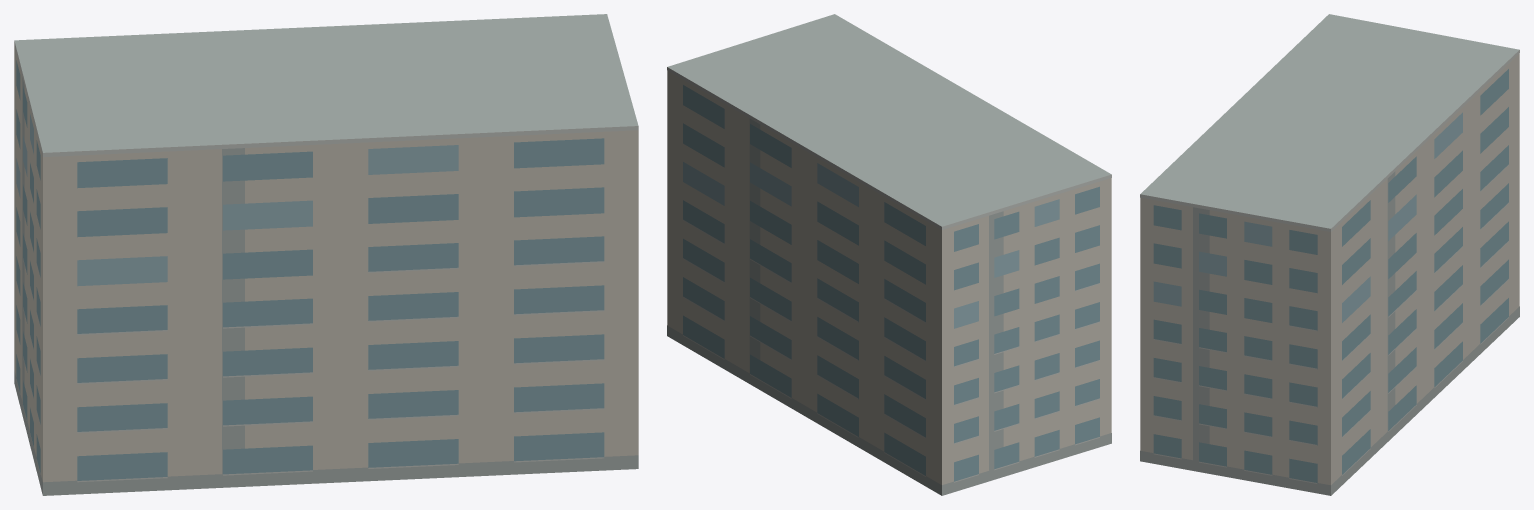
The model's file is survey-upis-32527534.glb.
3 views of the same model, side by side, from view 1: azimuth 30°, elevation 25°; view 2: azimuth 150°, elevation 25°; view 3: azimuth 270°, elevation 25° (orthographic). The views are drawn at different scales.
Parts seen in each view (by area): view 1: survey-upis-32527534.tmp; view 2: survey-upis-32527534.tmp; view 3: survey-upis-32527534.tmp.
Part boxes in pixels (x1,y1,x2,y2): survey-upis-32527534.tmp: (14, 14, 638, 495); survey-upis-32527534.tmp: (667, 14, 1111, 495); survey-upis-32527534.tmp: (1140, 14, 1519, 495).
Bounding box in the file's own units: 33.65 × 19.5 × 25.13.
